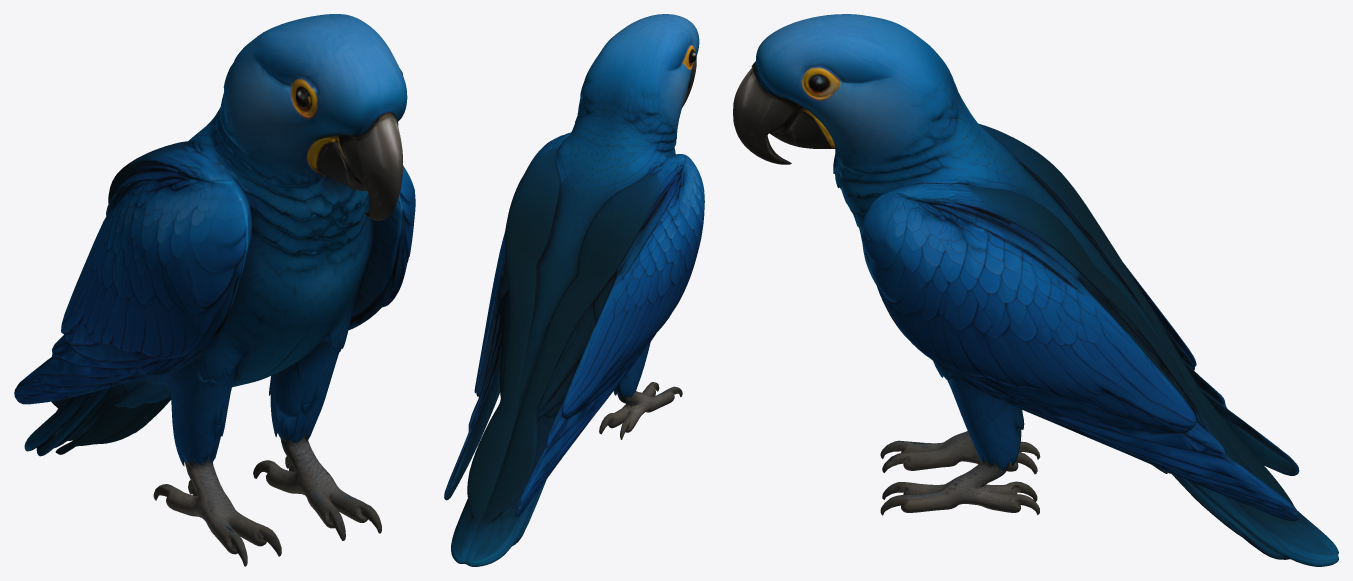
File: arara.glb
3 renders of one model, left to right at view 1: azimuth 30°, elevation 25°; view 2: azimuth 150°, elevation 25°; view 3: azimuth 270°, elevation 25°, orthographic. The views are drawn at different scales.
Visible parts, largest first — view 1: material; view 2: material; view 3: material.
Part boxes in pixels (left/top/right/bottom): material: left=14, top=14, right=415, bottom=566; material: left=444, top=14, right=704, bottom=566; material: left=733, top=14, right=1338, bottom=566.
Bounding box in the file's own units: 0.3623 × 0.8402 × 0.8606.
1 material, 1 textured.
